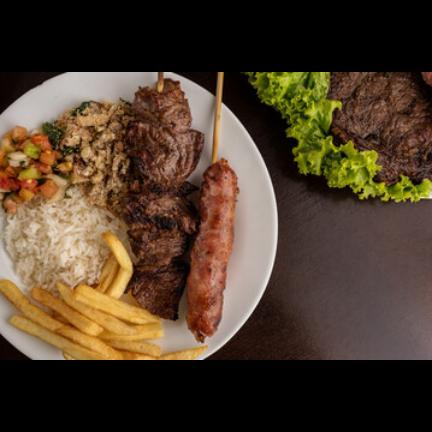meat: (122, 78, 204, 320), (328, 72, 431, 185)
potato: (0, 233, 206, 359)
rice: (3, 188, 129, 292)
salad: (245, 72, 431, 201)
sausage: (187, 159, 238, 341)
tomato: (0, 126, 62, 213)
